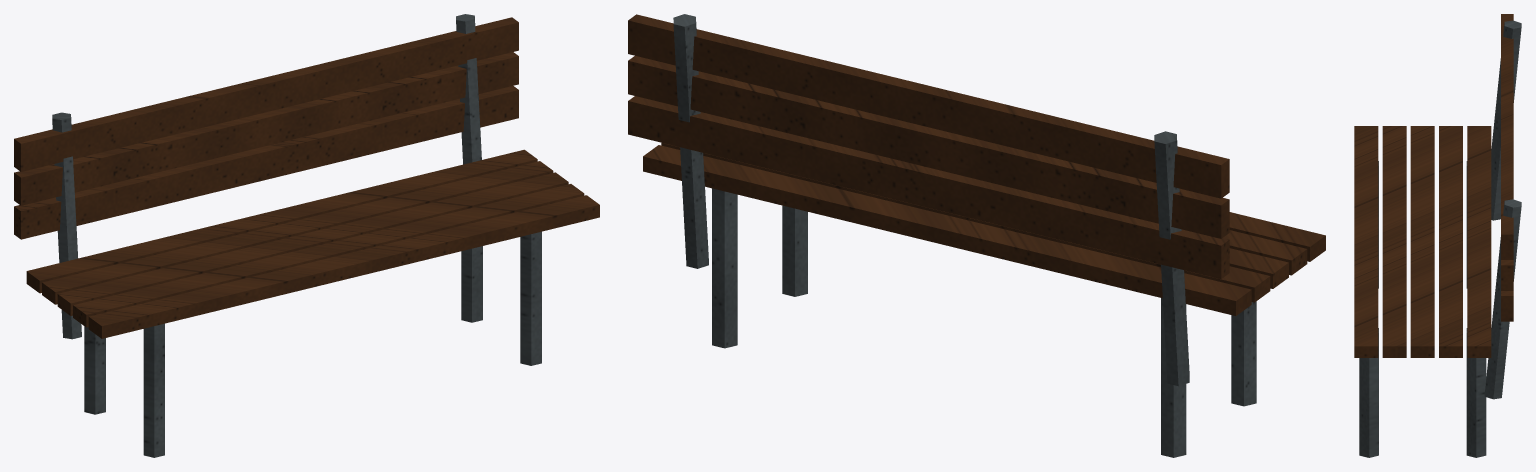
File: PROP-CFD19FE0CA6D_lod2.glb
3 renders of one model, left to right at view 1: azimuth 30°, elevation 25°; view 2: azimuth 150°, elevation 25°; view 3: azimuth 270°, elevation 25°, orthographic. The views are drawn at different scales.
Parts seen in each view (by area): view 1: back_slats.003, seat_slats.003, bench_legs.003, back_support.003; view 2: back_slats.003, seat_slats.003, bench_legs.003, back_support.003; view 3: seat_slats.003, bench_legs.003, back_support.003, back_slats.003.
Part boxes in pixels (x1,y1,x2,y2): back_slats.003: [14, 17, 518, 239]; seat_slats.003: [26, 149, 599, 338]; bench_legs.003: [84, 231, 541, 457]; back_support.003: [52, 14, 481, 339]; back_slats.003: [628, 14, 1229, 278]; seat_slats.003: [643, 143, 1325, 315]; bench_legs.003: [712, 188, 1256, 457]; back_support.003: [673, 14, 1189, 386]; seat_slats.003: [1354, 126, 1491, 357]; bench_legs.003: [1359, 161, 1486, 457]; back_support.003: [1484, 20, 1521, 399]; back_slats.003: [1501, 14, 1513, 321].
Size of the model in its own units: 1.85 by 1 by 0.5927.
2 materials, 2 textured.
